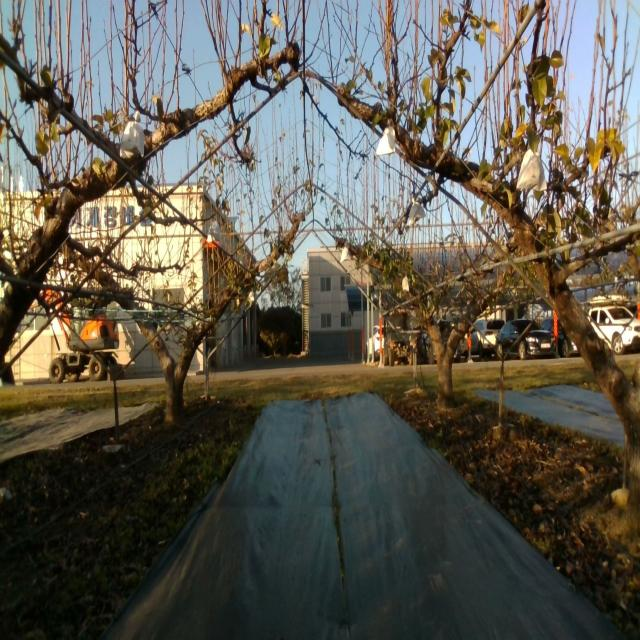pearbags: (516, 147, 548, 191), (120, 120, 145, 159), (376, 125, 396, 156), (409, 197, 426, 227), (206, 220, 223, 244)
